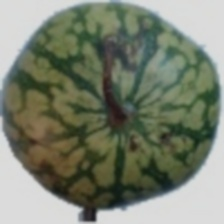watermelon: (24, 50, 219, 186)
